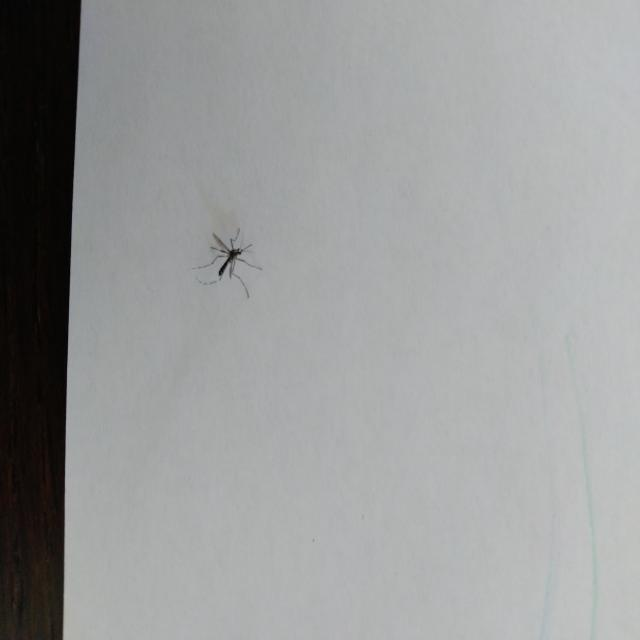albopictus: (188, 216, 265, 300)
